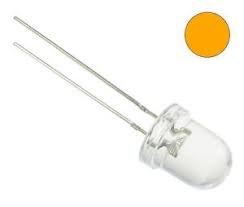LED: (7, 15, 241, 207)
